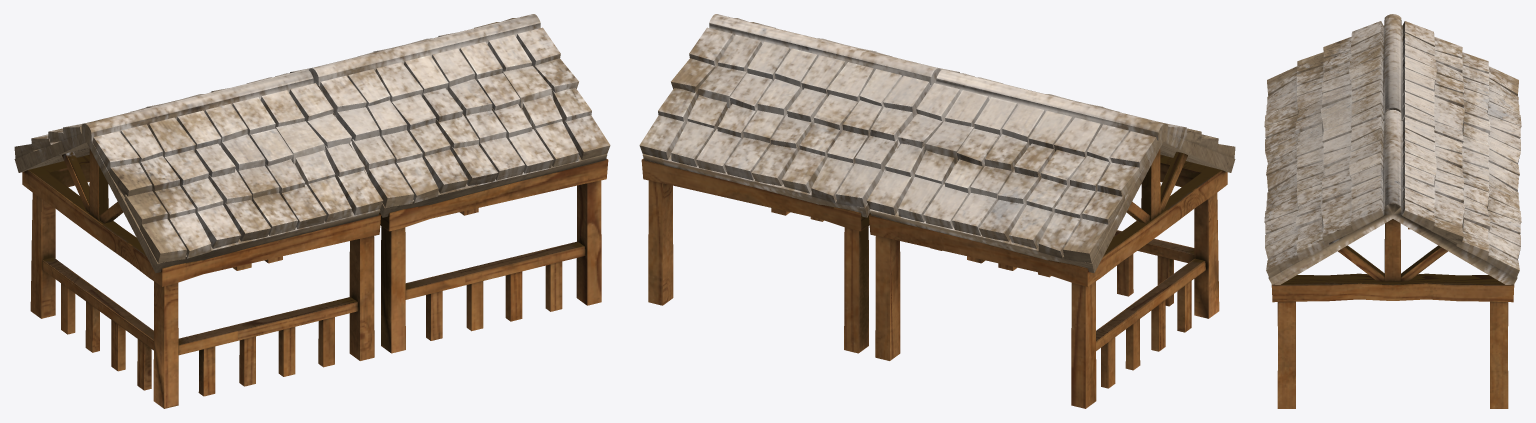
The model's file is StationHouse02.fbx.
The picture shows the model from 3 angles, left to right: view 1: azimuth 30°, elevation 25°; view 2: azimuth 150°, elevation 25°; view 3: azimuth 270°, elevation 25°; orthographic projection. The views are drawn at different scales.
Parts seen in each view (by area): view 1: StationHouse_02; view 2: StationHouse_02; view 3: StationHouse_02.
Boxes of the visible parts, x1,y1,x2,y2 form: StationHouse_02: [14, 14, 610, 408]; StationHouse_02: [639, 14, 1235, 408]; StationHouse_02: [1264, 14, 1521, 408].
Bounding box in the file's own units: 239 × 120 × 136.
